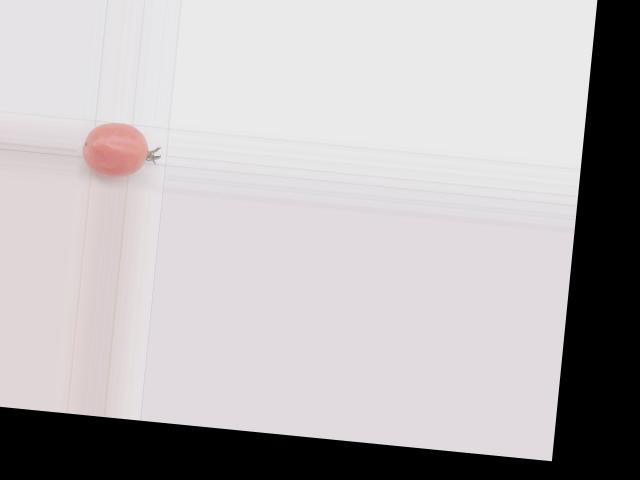tomato: (80, 119, 150, 179)
